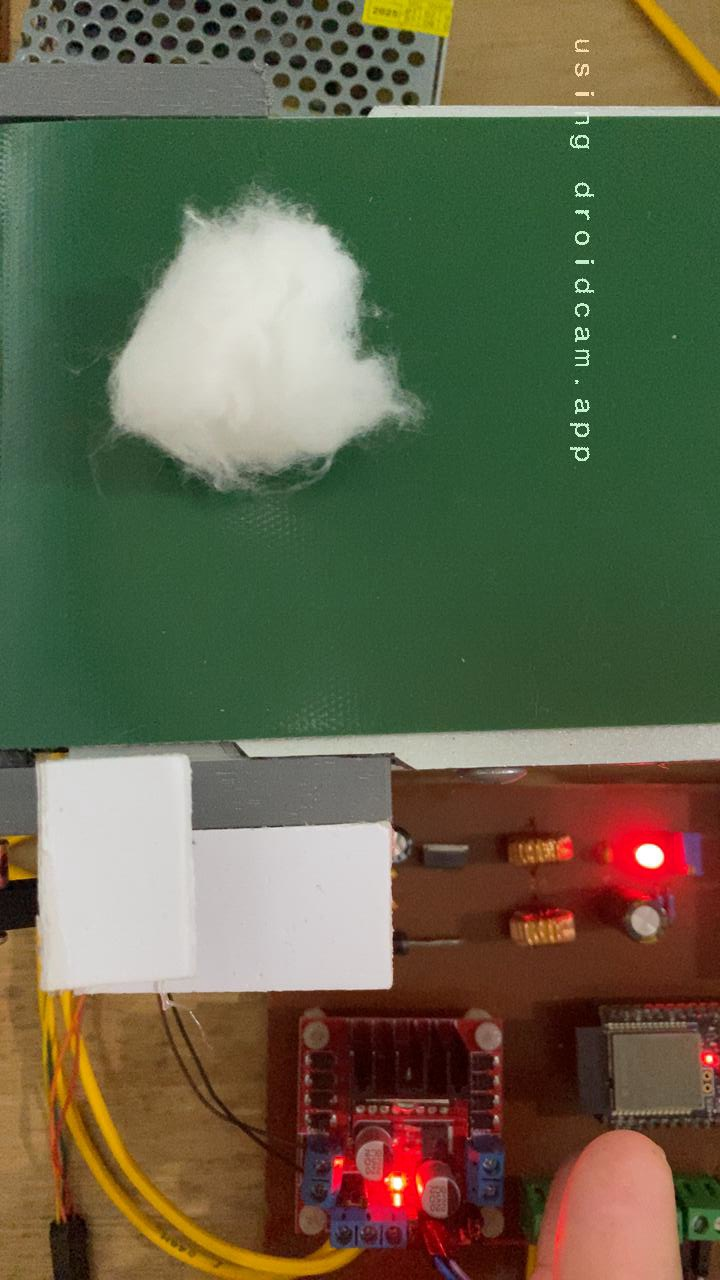cotton: (107, 192, 420, 497)
